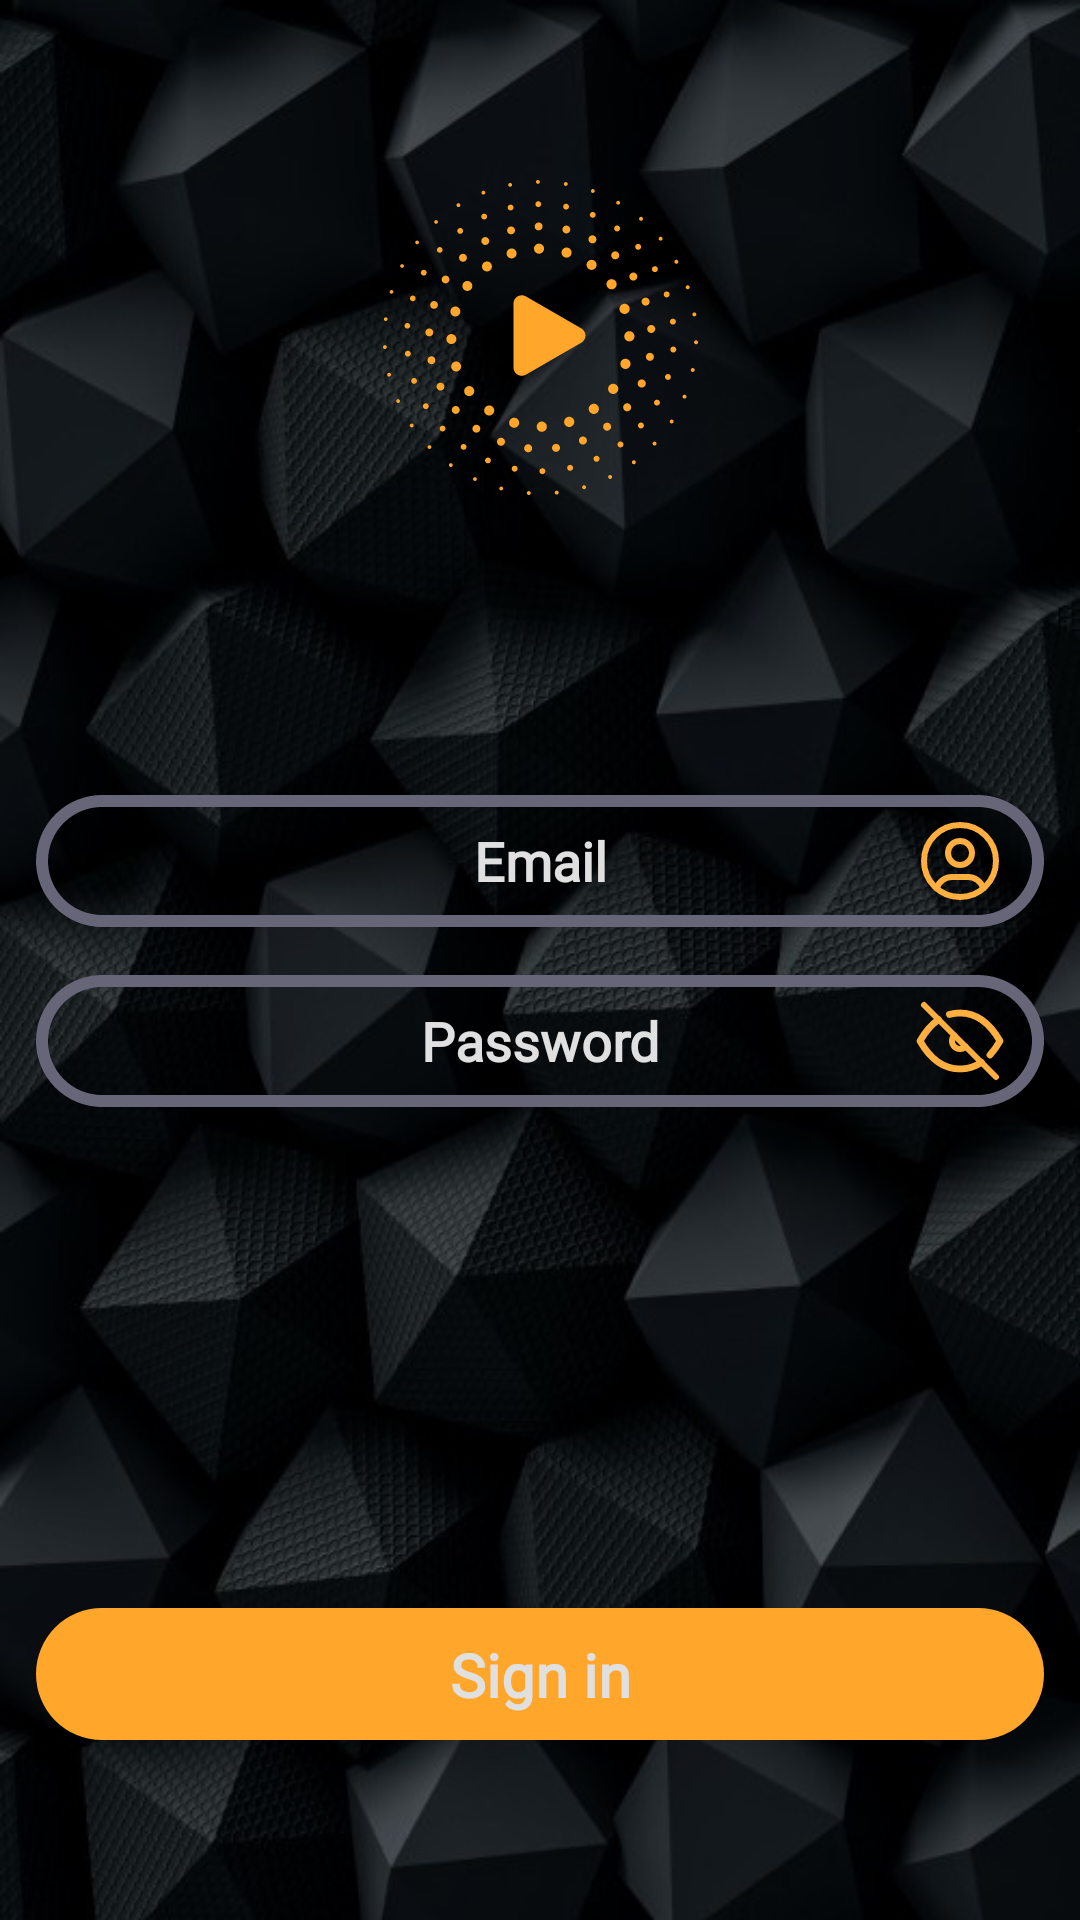

Where icons sit on this 1080w x 1920h app screen, as (x1, y1, x2, y2):
eye off: (916, 1001, 1004, 1080)
user: (912, 813, 1008, 909)
